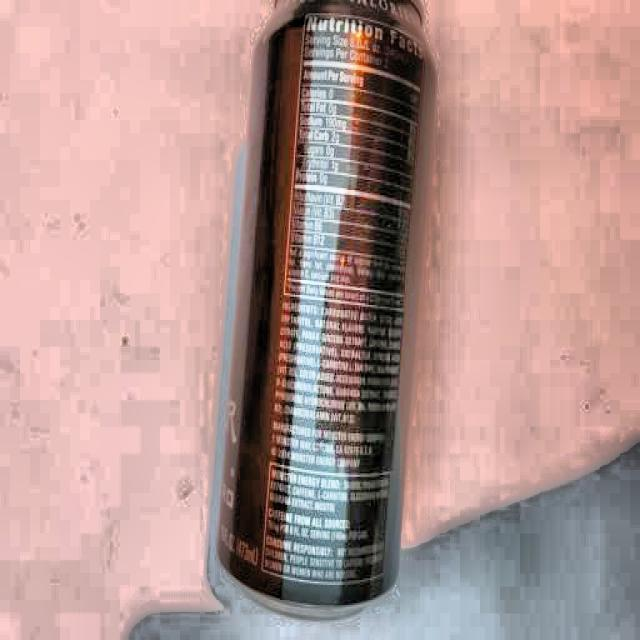metal: (224, 0, 434, 640)
